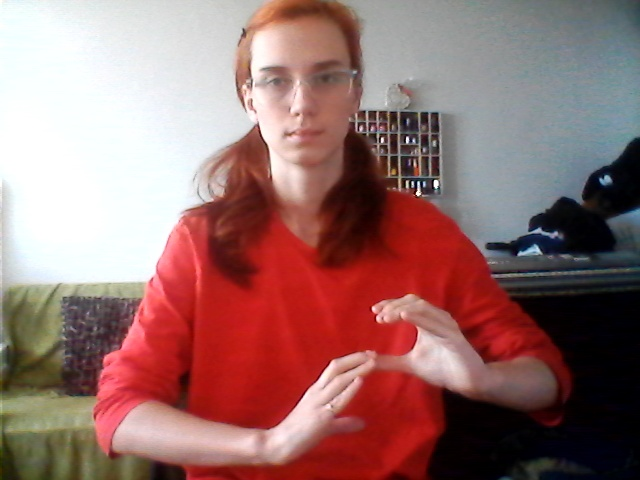s: (276, 285, 481, 469)
